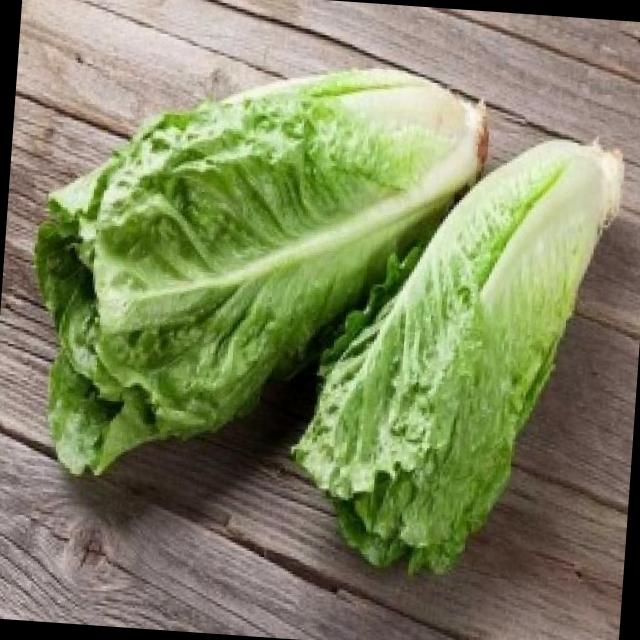Lettuce-Ready-to-Harvest: (34, 69, 486, 473), (293, 141, 623, 573)
